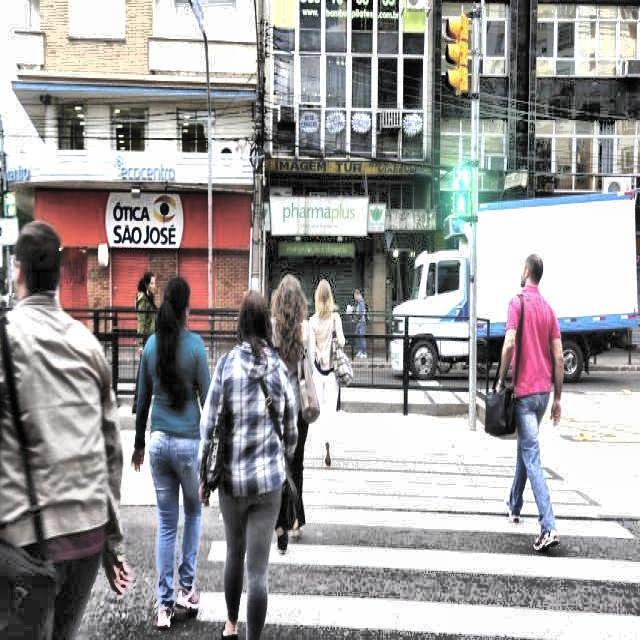faixa de pedestre: (199, 408, 636, 639)
